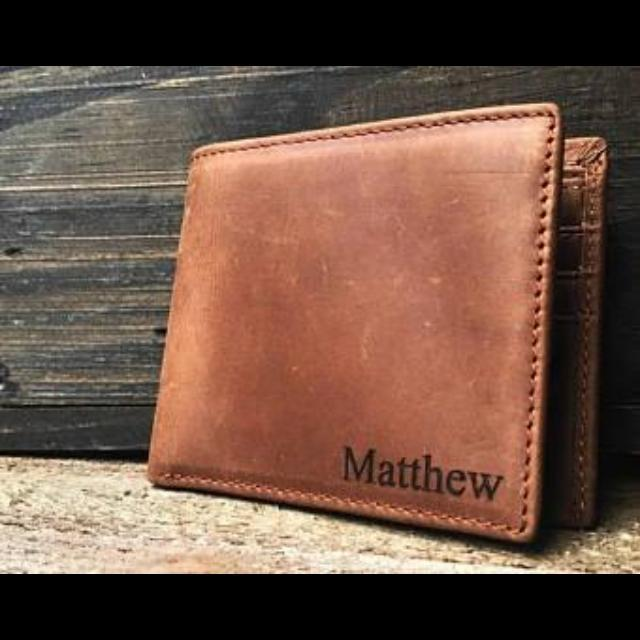wallet: (144, 99, 612, 552)
